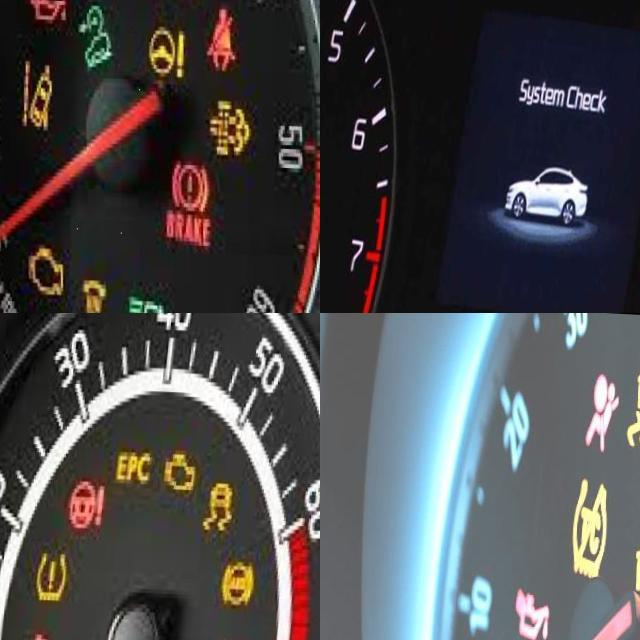Electronic Power Steering: (66, 475, 110, 528)
Electronic Power Steering Warning: (147, 25, 191, 77)
Seat Belt: (209, 3, 239, 65)
